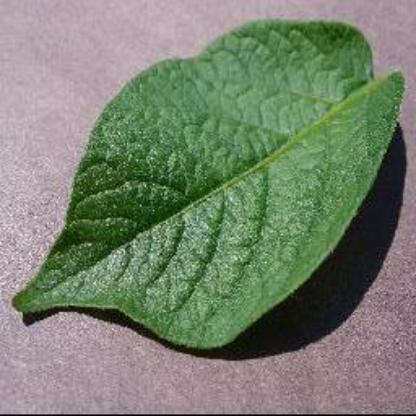Healthy-plant: (11, 6, 408, 398)
